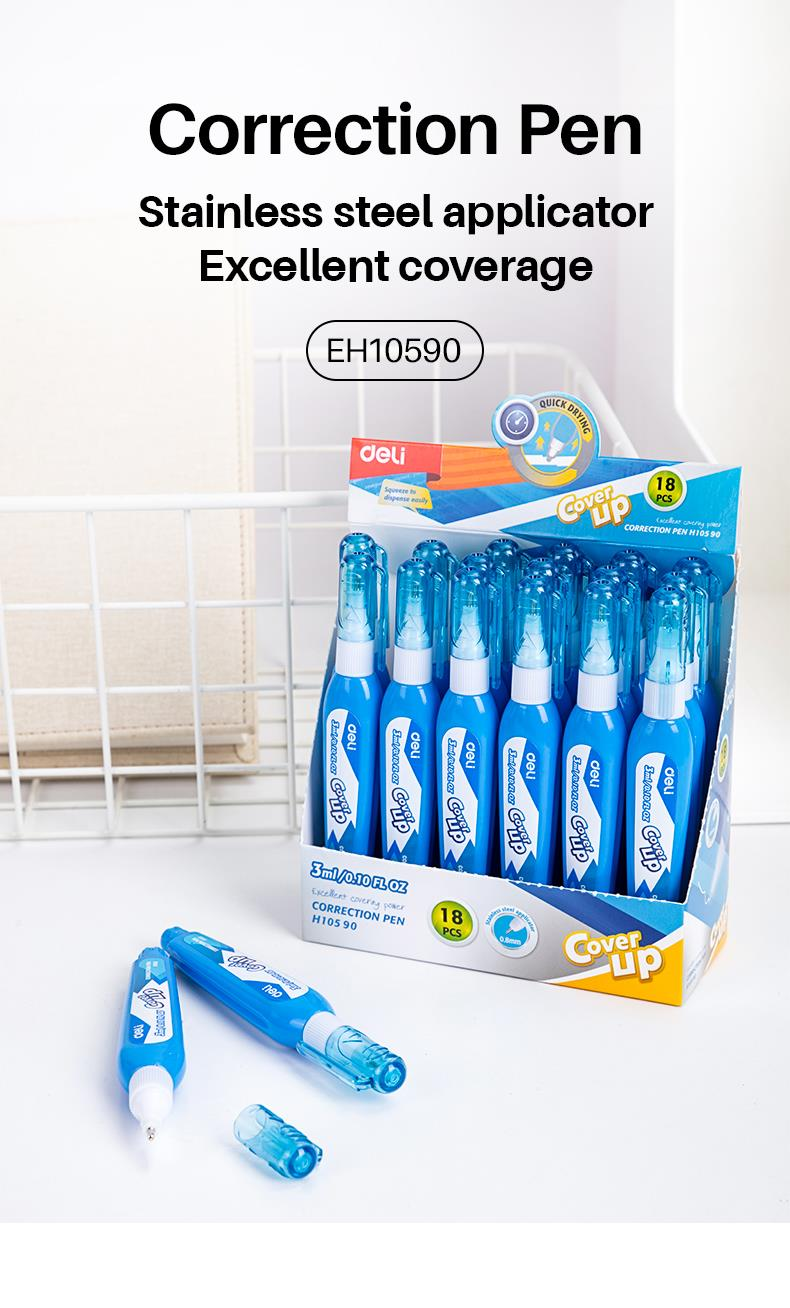Correction_fluid: (151, 919, 410, 1106), (621, 583, 700, 912), (493, 563, 560, 901), (372, 553, 443, 870), (562, 571, 628, 898), (432, 562, 501, 873), (314, 551, 383, 858), (116, 935, 189, 1146)
